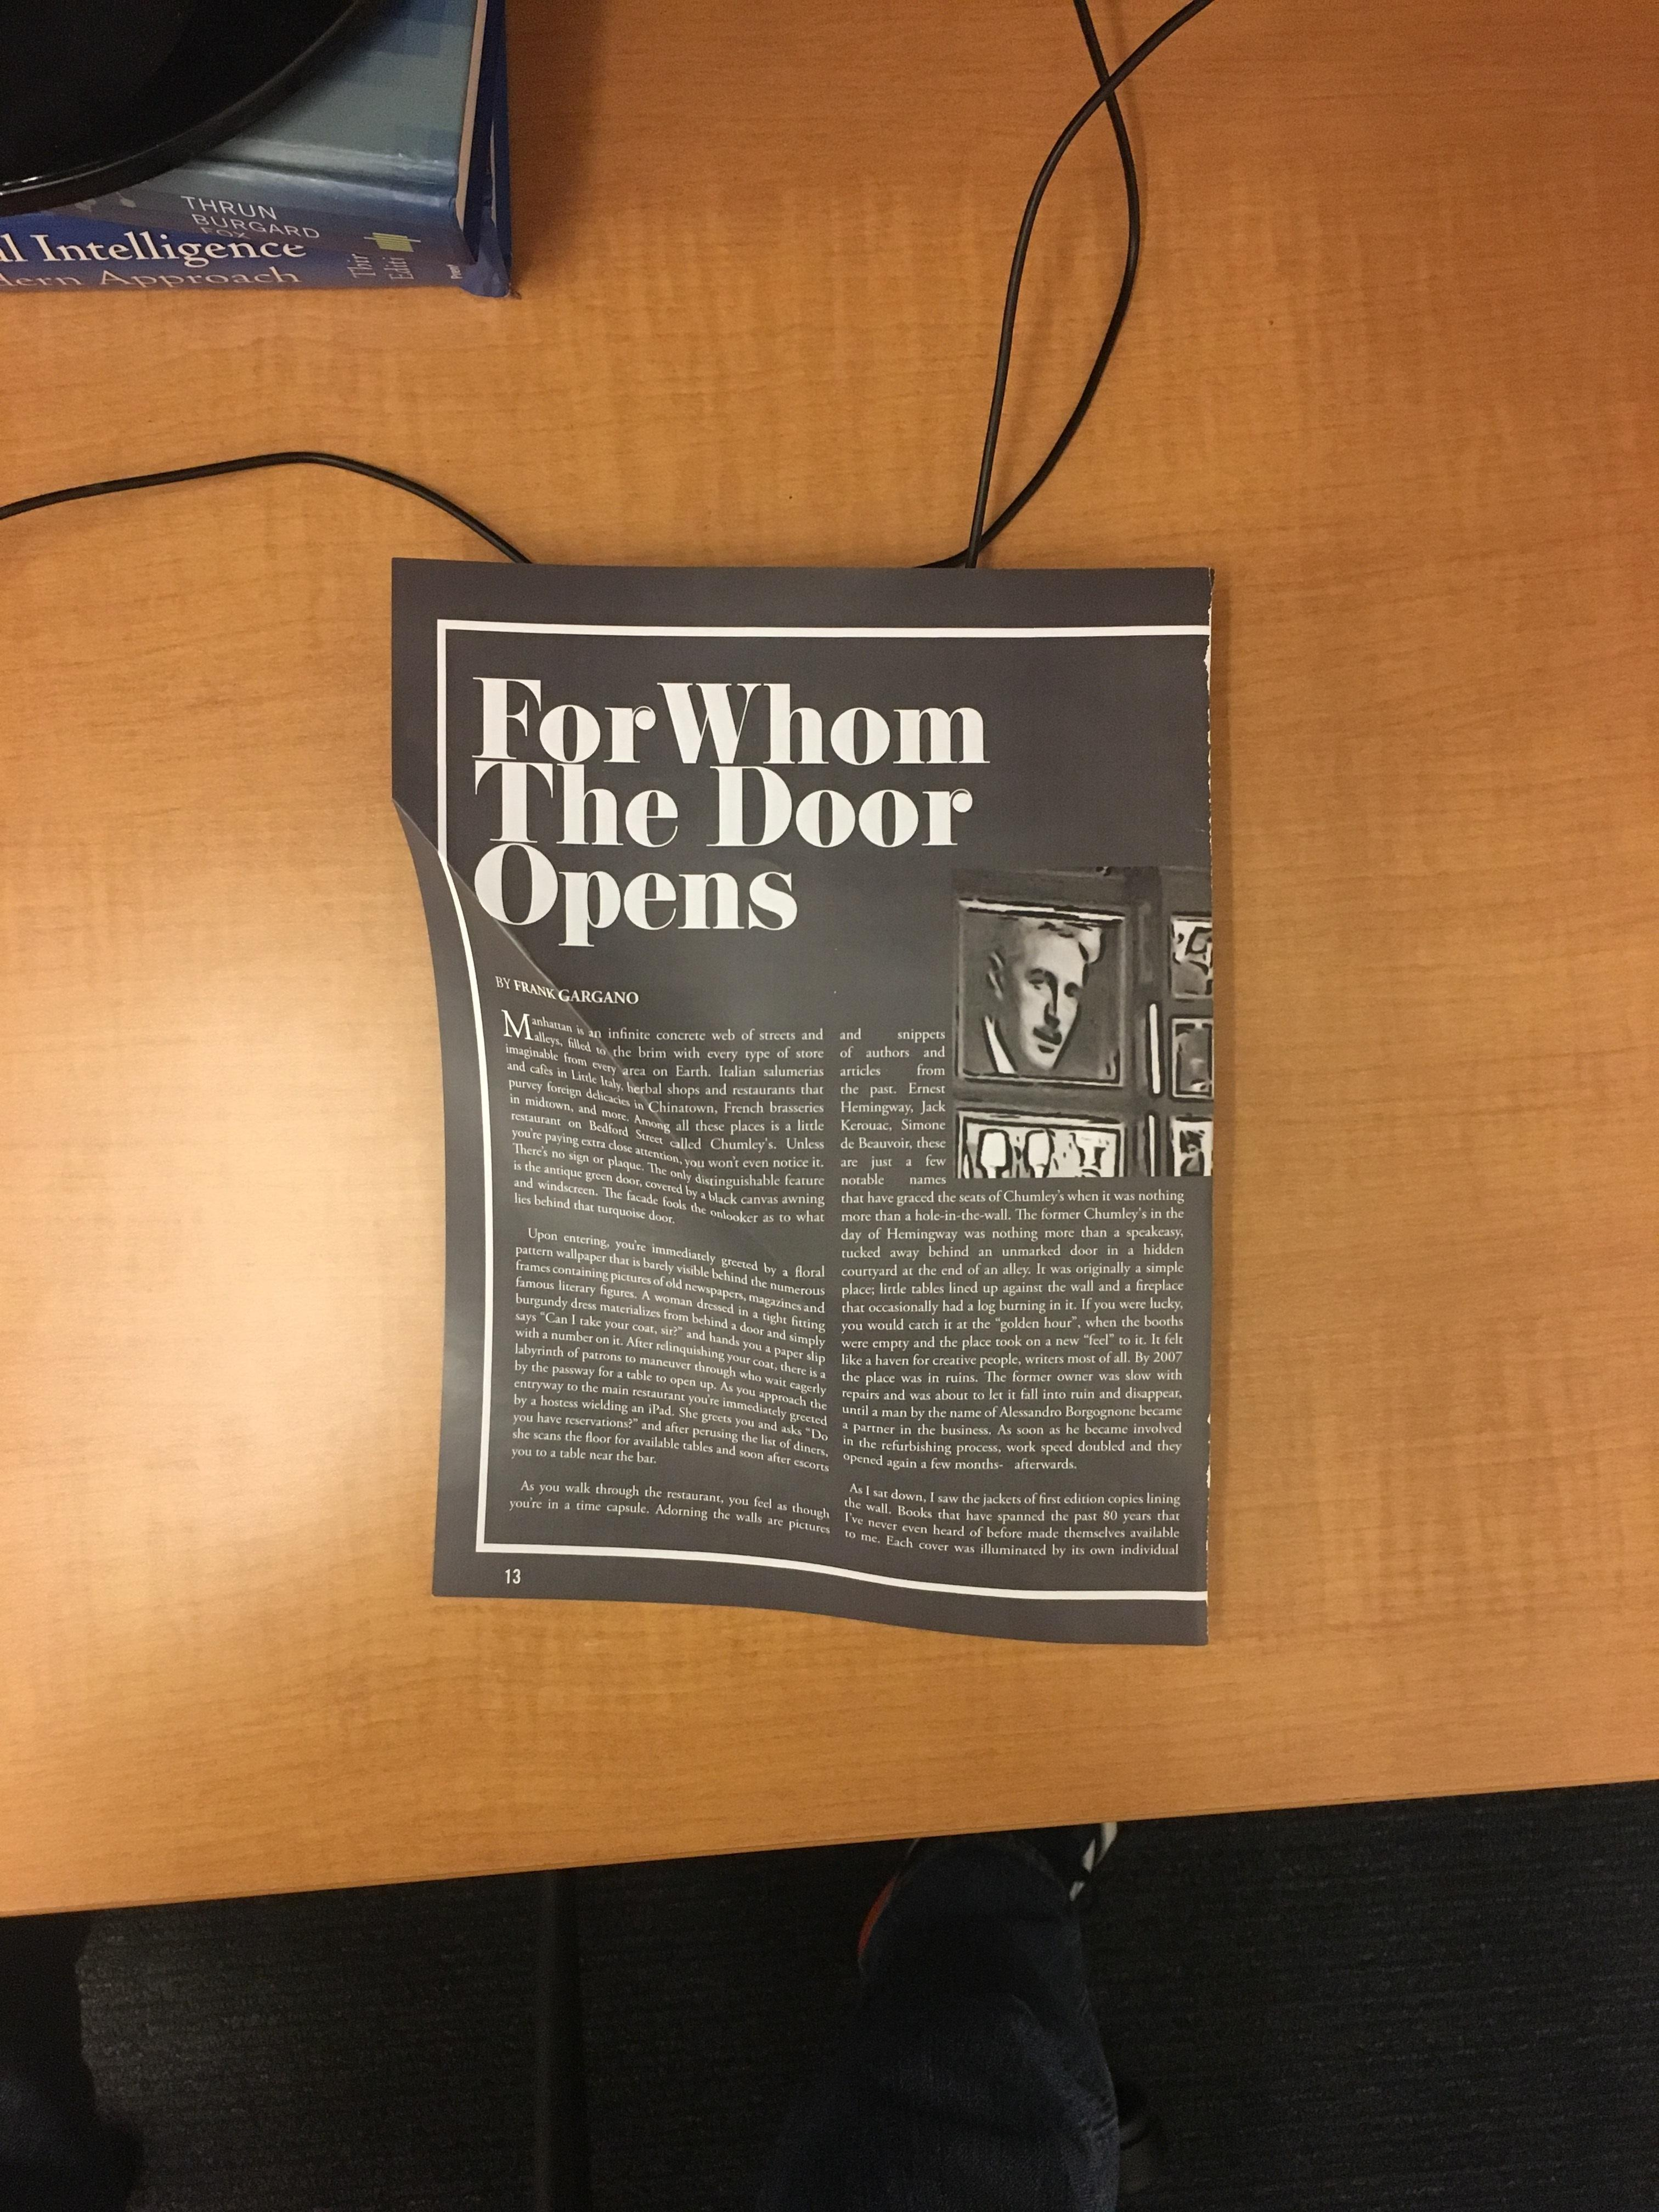paper: (258, 435, 1347, 1642)
